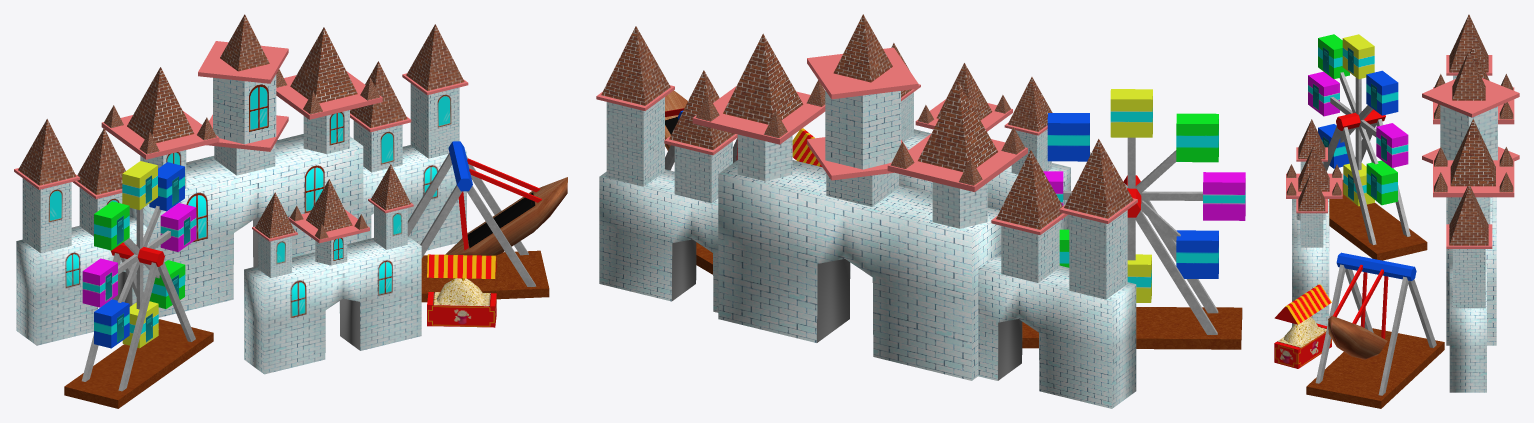
File: land.fbx
3 renders of one model, left to right at view 1: azimuth 30°, elevation 25°; view 2: azimuth 150°, elevation 25°; view 3: azimuth 270°, elevation 25°, orthographic. The views are drawn at different scales.
Visible parts, largest first — view 1: polySurface85; view 2: polySurface85; view 3: polySurface85.
Boxes of the visible parts, x1,y1,x2,y2 form: polySurface85: [14, 14, 567, 408]; polySurface85: [596, 14, 1245, 408]; polySurface85: [1274, 14, 1519, 408].
Size of the model in its own units: 13.21 by 6.88 by 6.18.
